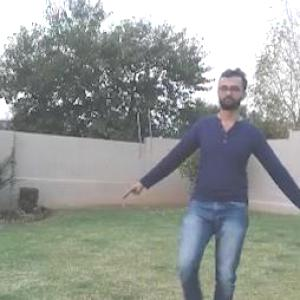land: (102, 66, 298, 299)
